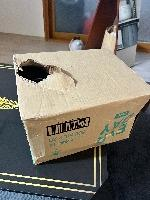damaged package: (13, 55, 76, 94)
undamaged: (9, 46, 148, 169)
